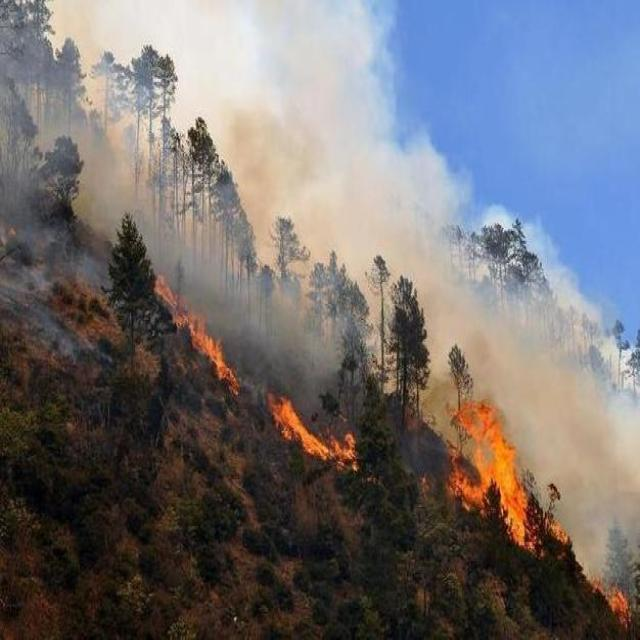Fire: (454, 403, 530, 540), (272, 390, 330, 458)
